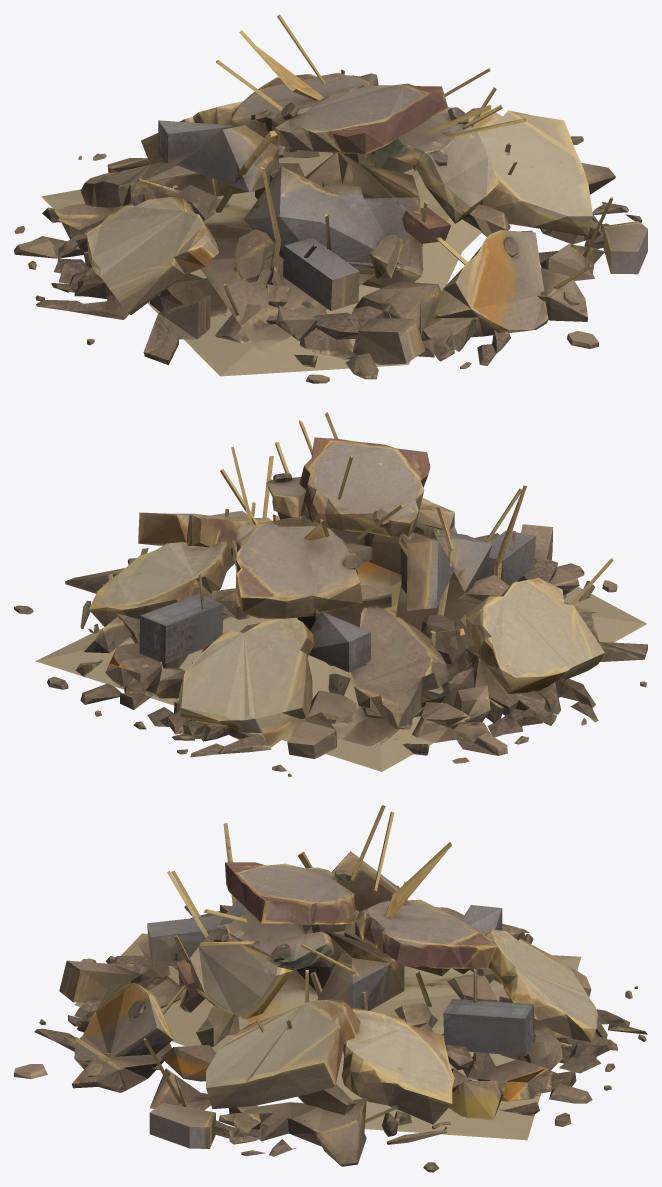
The model's file is rubble_pile.glb.
The picture shows the model from 3 angles, top to bottom: view 1: azimuth 30°, elevation 25°; view 2: azimuth 150°, elevation 25°; view 3: azimuth 270°, elevation 25°; orthographic projection. The views are drawn at different scales.
Parts seen in each view (by area): view 1: tripo_node_445111a6-f7a3-40e0-8167-f1814077840e; view 2: tripo_node_445111a6-f7a3-40e0-8167-f1814077840e; view 3: tripo_node_445111a6-f7a3-40e0-8167-f1814077840e.
Part boxes in pixels (<box>): tripo_node_445111a6-f7a3-40e0-8167-f1814077840e: <box>14,14,647,383</box>; tripo_node_445111a6-f7a3-40e0-8167-f1814077840e: <box>14,412,647,776</box>; tripo_node_445111a6-f7a3-40e0-8167-f1814077840e: <box>14,805,647,1172</box>.
Bounding box in the file's own units: 0.998 × 0.3887 × 0.9864.
1 material, 1 textured.
